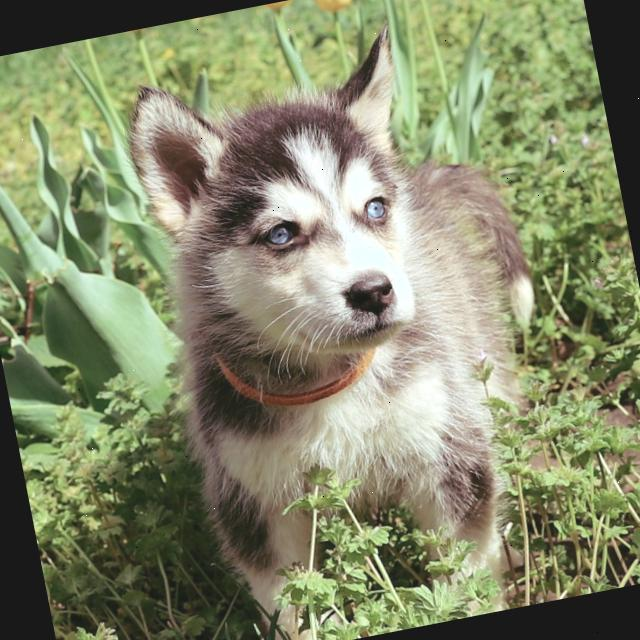siberian_husky_dog: (112, 16, 462, 402)
